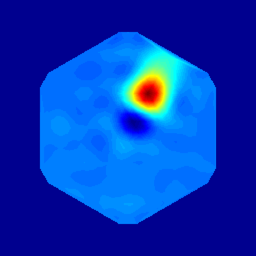ship: (124, 109, 148, 136)
wave: (131, 73, 163, 117)
